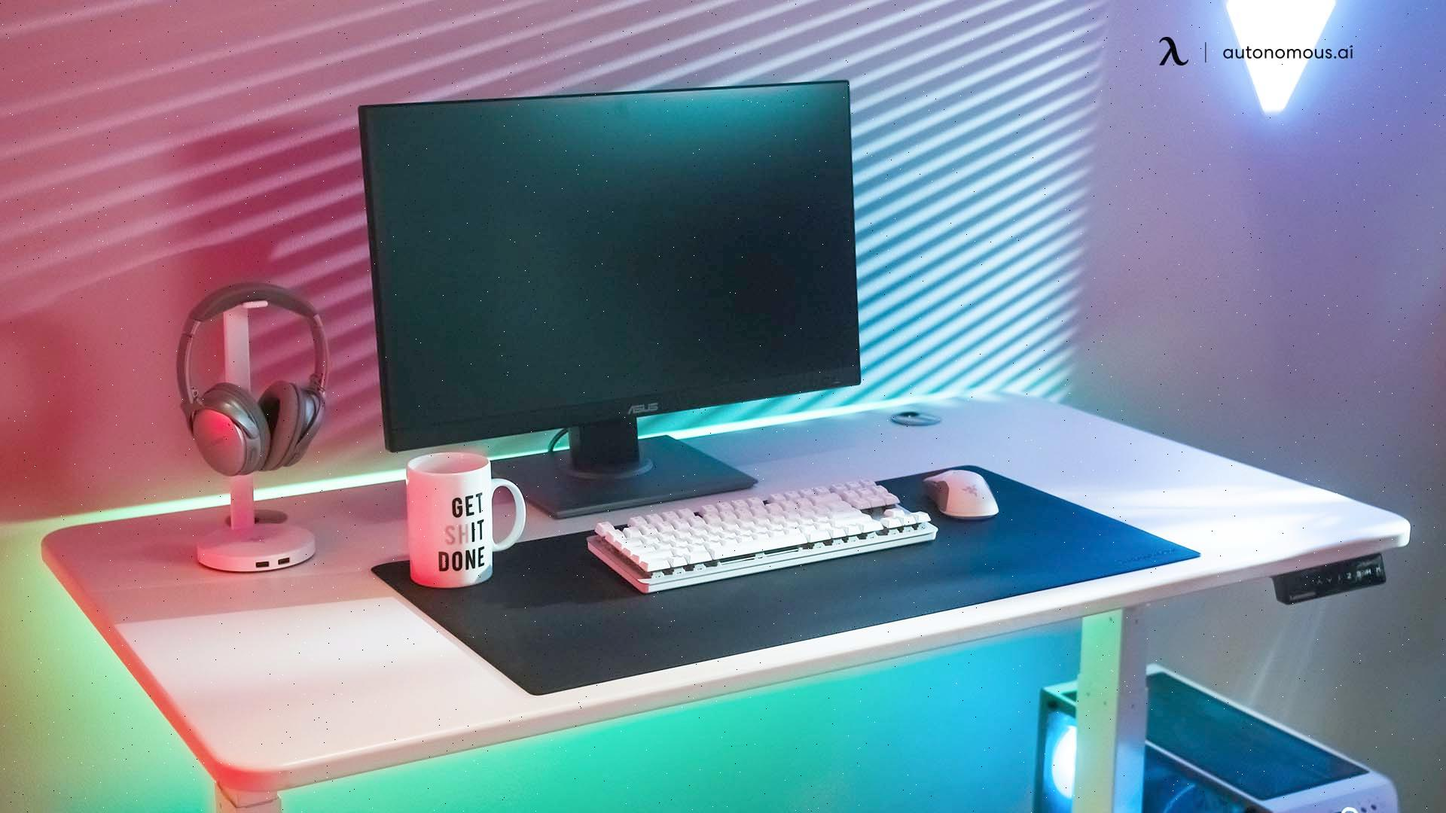head_phone: (166, 262, 341, 493)
keyboard: (564, 471, 945, 606)
monitor: (343, 70, 869, 461)
mouse: (918, 461, 1010, 525)
pc: (1021, 653, 1416, 813)
